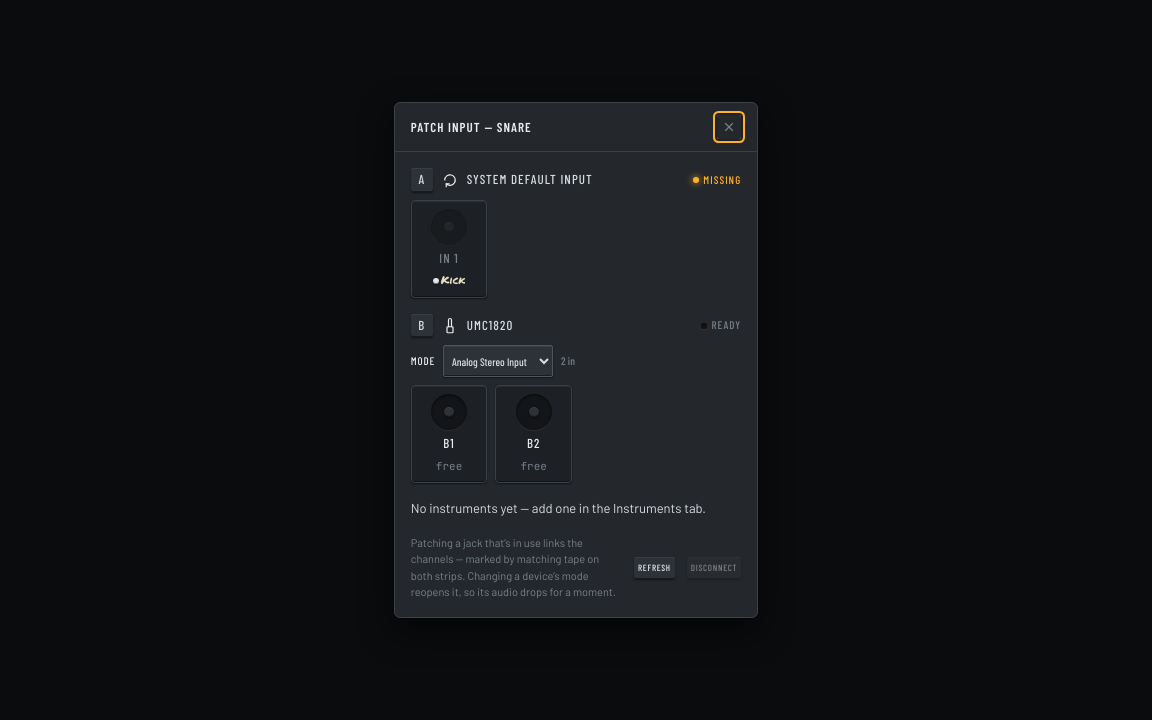
Test: InputPickerModal › the card profile picker › surfaces a refused switch instead of silently reverting
Expected: the text "UMC1820" is shown, 467,316 -> 513,335
Select "Pro Audio (all inputs)" in the dropdown labelled "Mode" at (498, 361), box 443,345 -> 553,377
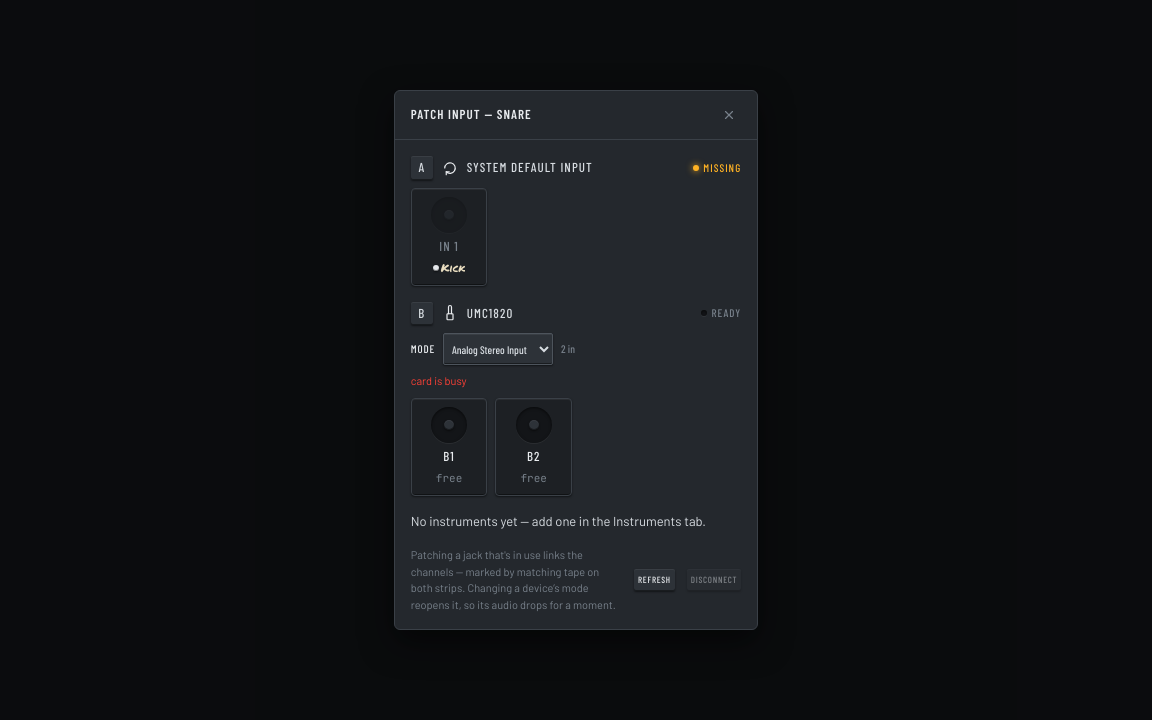
Expected: the message reads "card is busy", 411,374 -> 466,387
